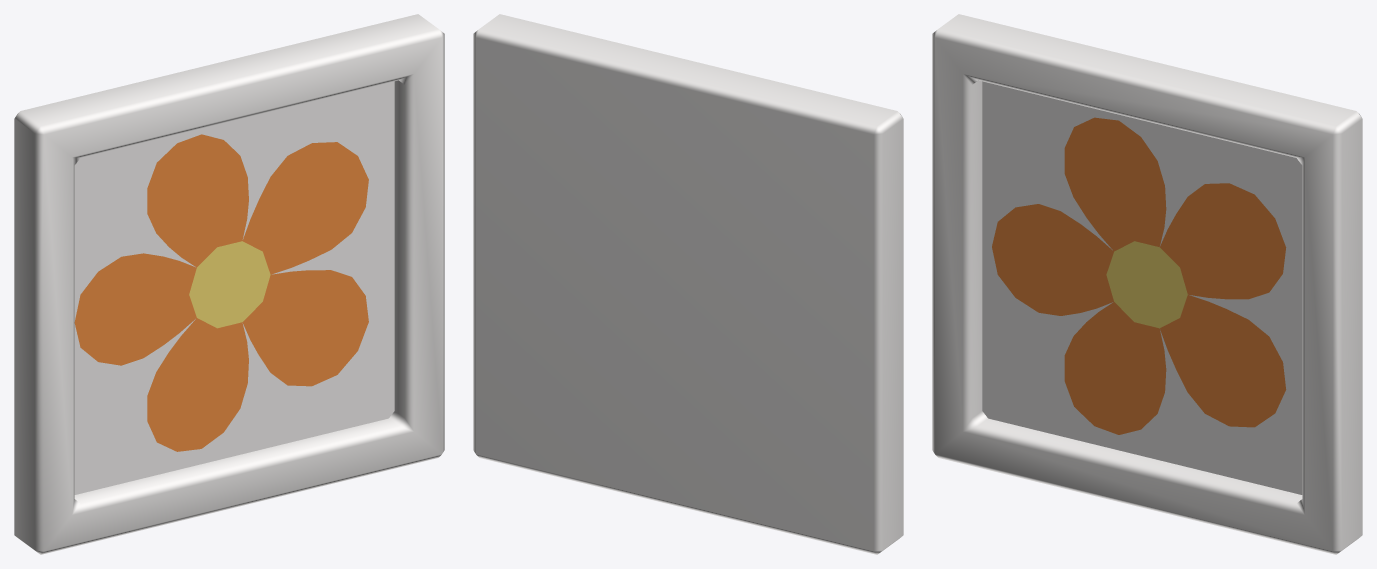
Rendered from painting1.glb.
3 renders of one model, left to right at view 1: azimuth 30°, elevation 25°; view 2: azimuth 150°, elevation 25°; view 3: azimuth 330°, elevation 25°, orthographic.
Parts seen in each view (by area): view 1: SM_Painting_10; view 2: SM_Painting_10; view 3: SM_Painting_10.
Boxes of the visible parts, x1,y1,x2,y2 form: SM_Painting_10: (14, 14, 444, 554); SM_Painting_10: (473, 14, 903, 554); SM_Painting_10: (932, 14, 1362, 554).
Size of the model in its own units: 0.5376 by 0.5376 by 0.0621.
Materials: 1 (1 with a texture image).
